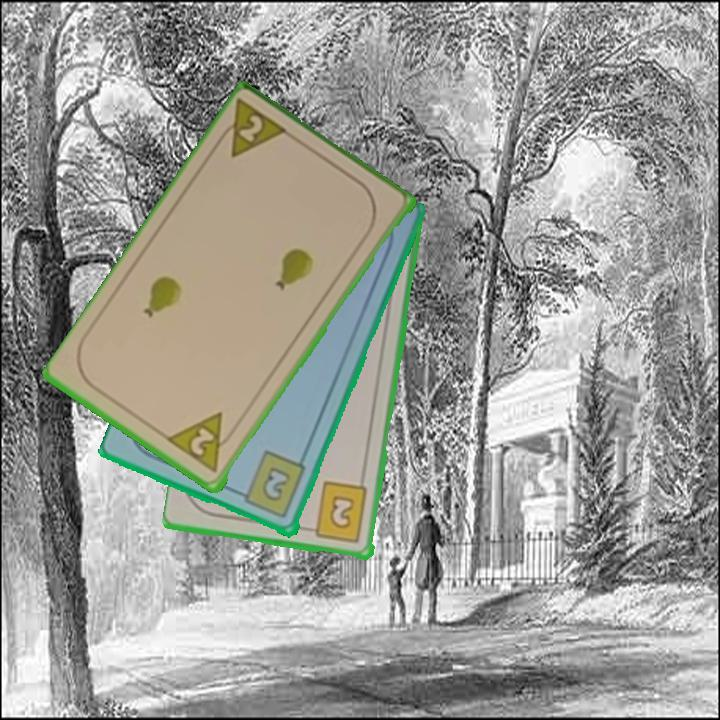2b: (233, 448, 309, 522), (303, 479, 371, 546)
2p: (211, 96, 293, 162), (165, 409, 240, 477)
